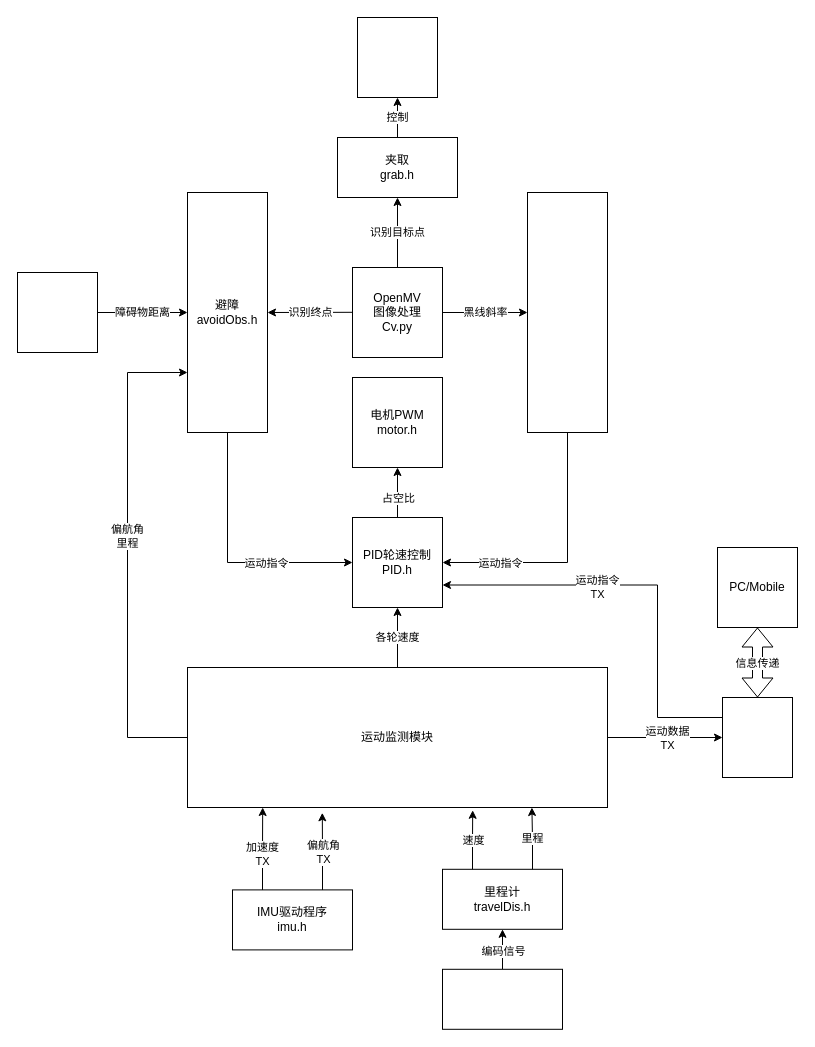
The diagram is 815 pixels wide and 1047 high, and some of its shapes have lost their labels. The centre of each missing label's shape, as x and y in pixels:
"循迹 lineFol.h" belongs at point (567, 312).
"电机编码器驱动程序" belongs at point (502, 998).
"舵机PWM servo.h" belongs at point (397, 57).
"蓝牙 blueTooth.h" belongs at point (757, 737).
"超声波测距 uSonic.h" belongs at point (57, 312).
